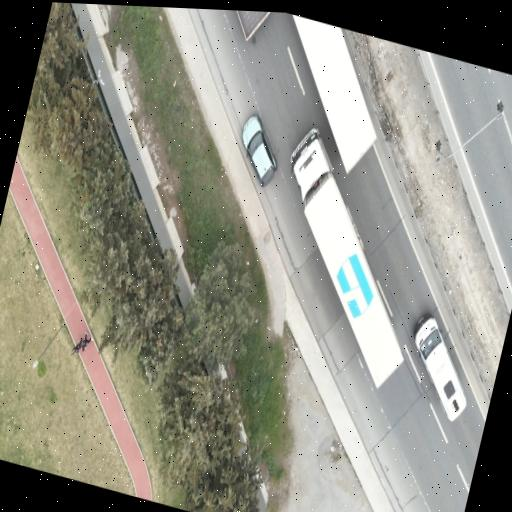car: (414, 316, 466, 420), (243, 115, 277, 186)
person: (70, 336, 84, 360), (80, 334, 91, 351)
truck: (291, 128, 403, 386), (293, 15, 376, 171), (237, 11, 270, 39)
